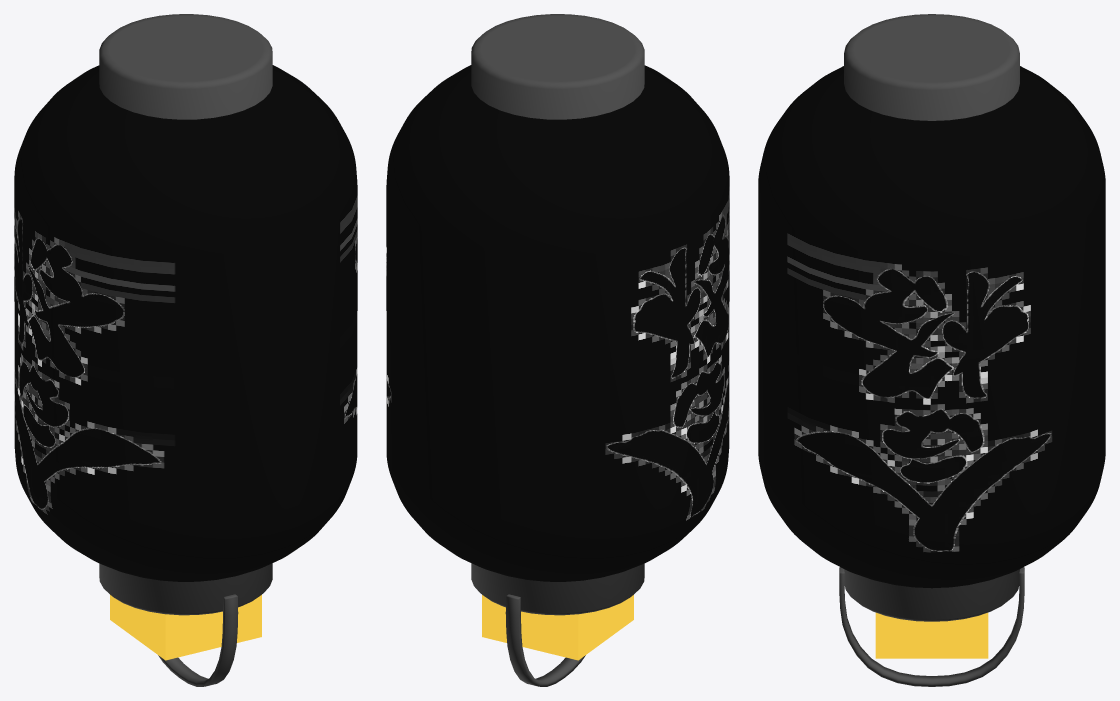
Rendered from japanlamp.glb.
The picture shows the model from 3 angles, left to right: view 1: azimuth 30°, elevation 25°; view 2: azimuth 150°, elevation 25°; view 3: azimuth 270°, elevation 25°; orthographic projection.
Parts seen in each view (by area): view 1: Sphere, Circle, lampu, Circle.001; view 2: Sphere, Circle, lampu, Circle.001; view 3: Sphere, Circle, lampu, Circle.001.
Boxes of the visible parts, left/top/right/bottom form: Sphere: left=14, top=65, right=357, bottom=581; Circle: left=99, top=14, right=272, bottom=615; lampu: left=110, top=595, right=261, bottom=660; Circle.001: left=158, top=594, right=238, bottom=686; Sphere: left=386, top=65, right=729, bottom=581; Circle: left=471, top=14, right=644, bottom=615; lampu: left=482, top=595, right=633, bottom=660; Circle.001: left=505, top=594, right=585, bottom=686; Sphere: left=758, top=66, right=1105, bottom=588; Circle: left=844, top=14, right=1019, bottom=621; lampu: left=875, top=612, right=988, bottom=658; Circle.001: left=839, top=567, right=1024, bottom=686.
Bounding box in the file's own units: 0.4311 × 0.8682 × 0.4311.
3 materials, 1 textured.
